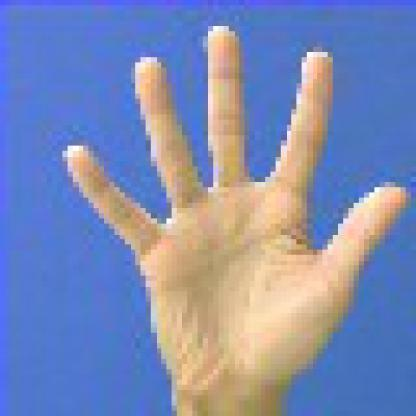five: (36, 15, 411, 410)
